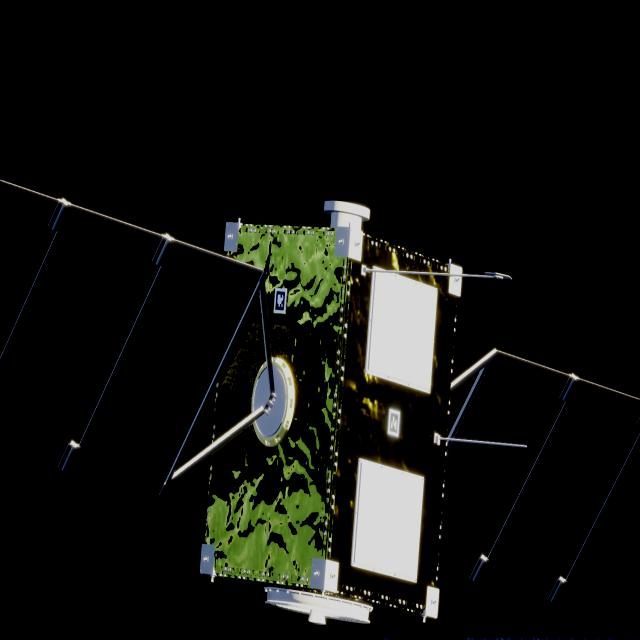satellite: (0, 180, 640, 627)
